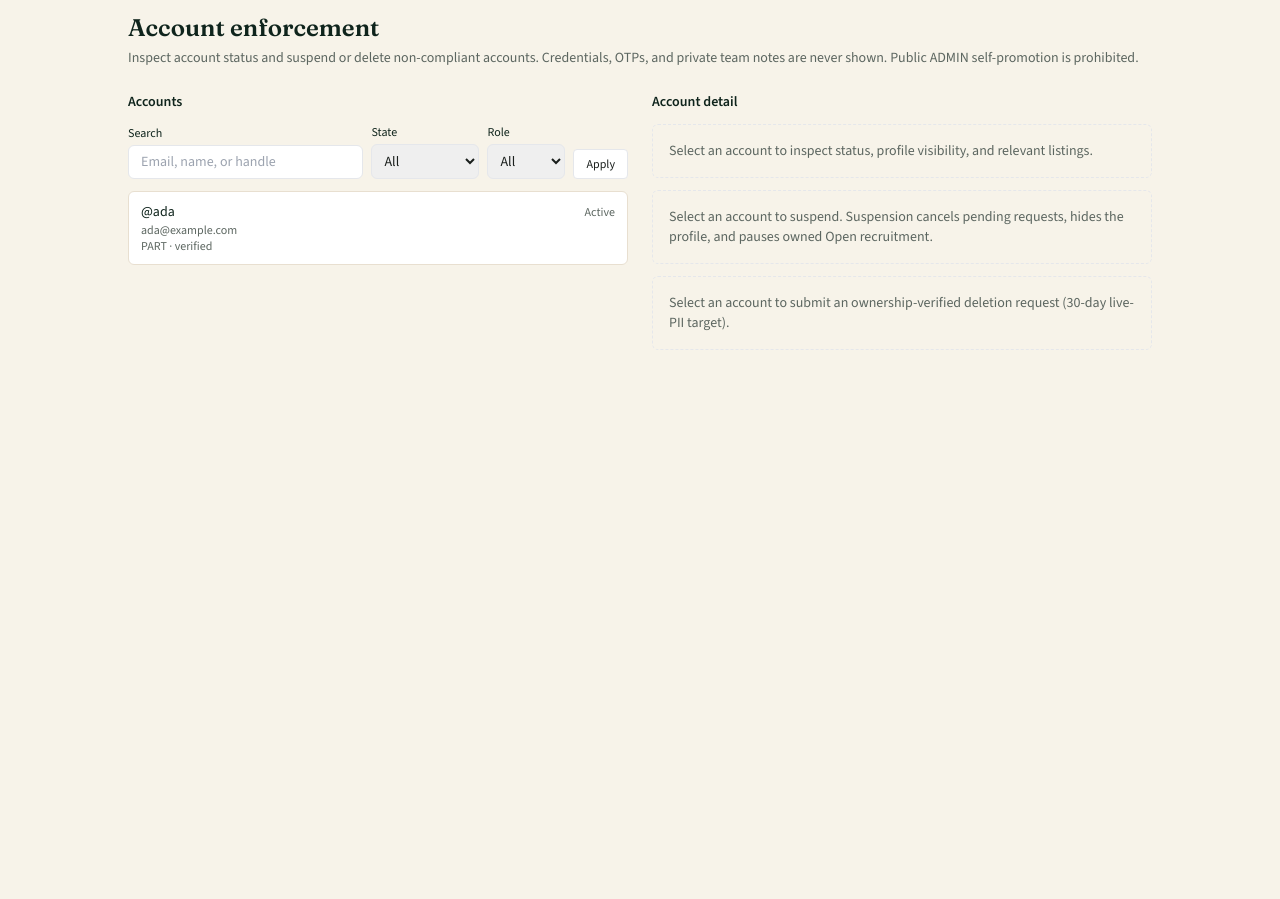
Test: AccountEnforcementPage (US-027 / #255) › suspends account and shows cascade success outcomes
Click the button "@ada Active ada@example.com PART · verified".
click(158, 212)  # box [129,192,627,264]
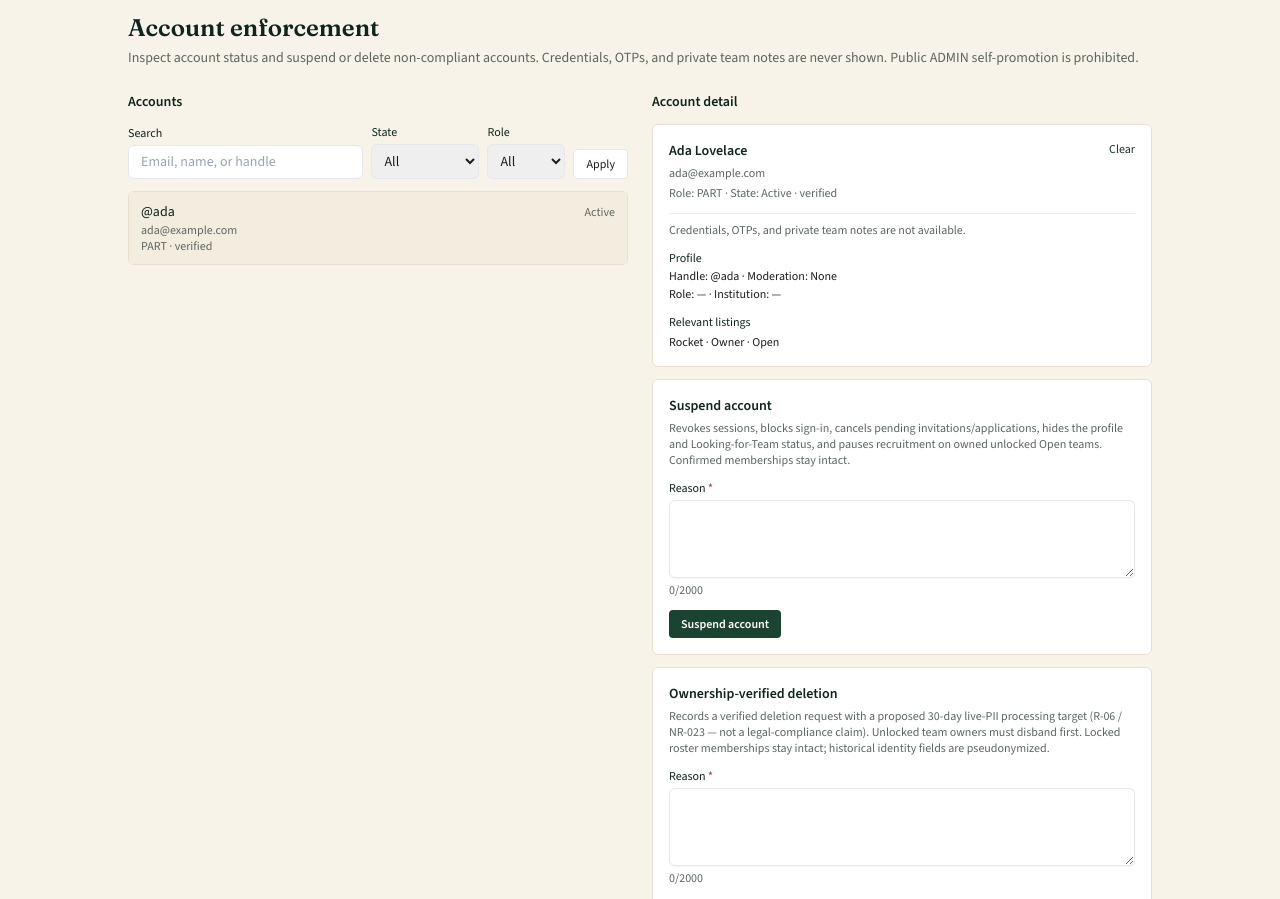
expect the form with test id "suspend-account-form" is shown: met, box [652,379,1152,655]
Type "Harassment" into the text box with test id "suspend-reason".
click(902, 539); type("Harassment")  # box [669,500,1135,578]
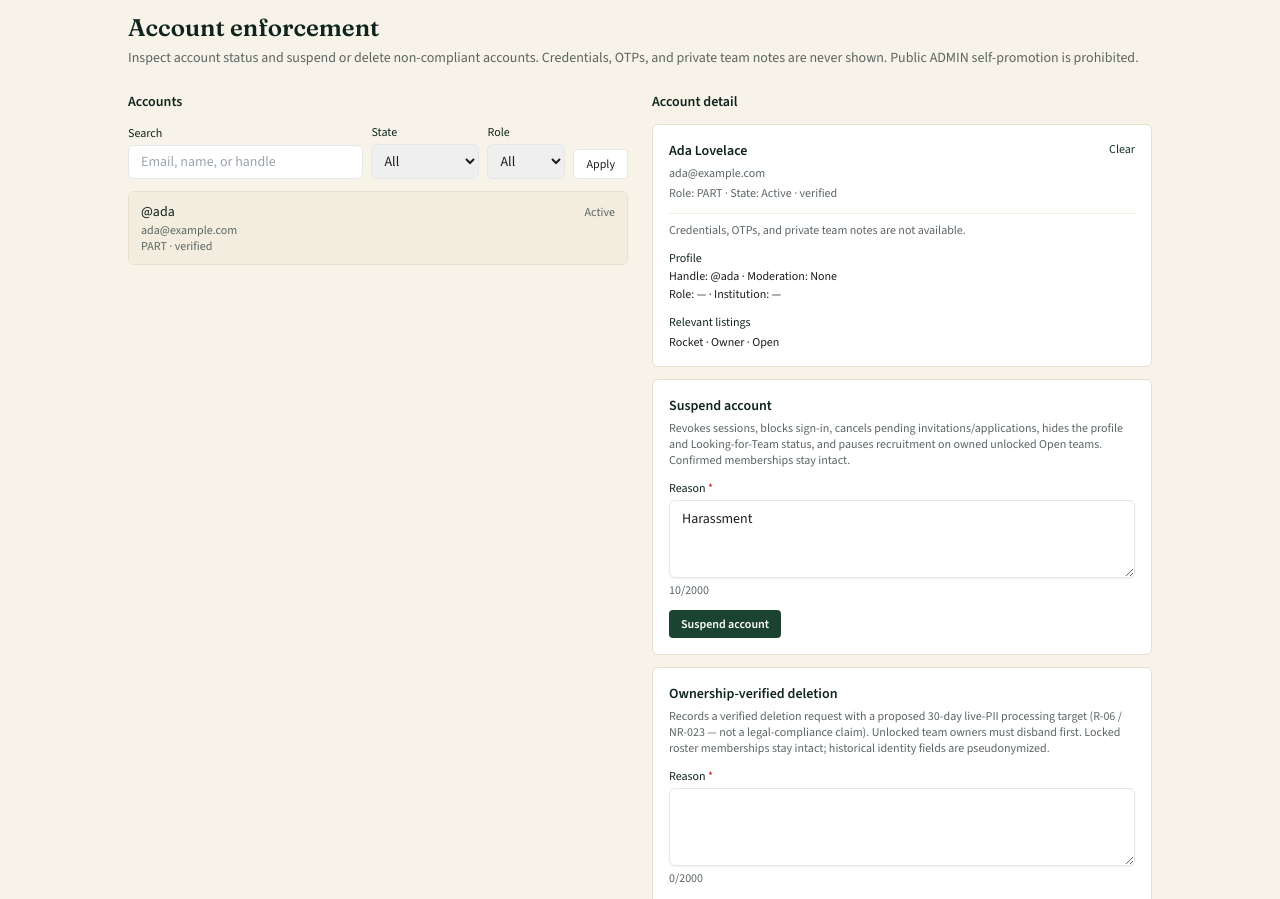
Click the button with test id "suspend-submit".
click(725, 624)  # box [669,610,781,638]
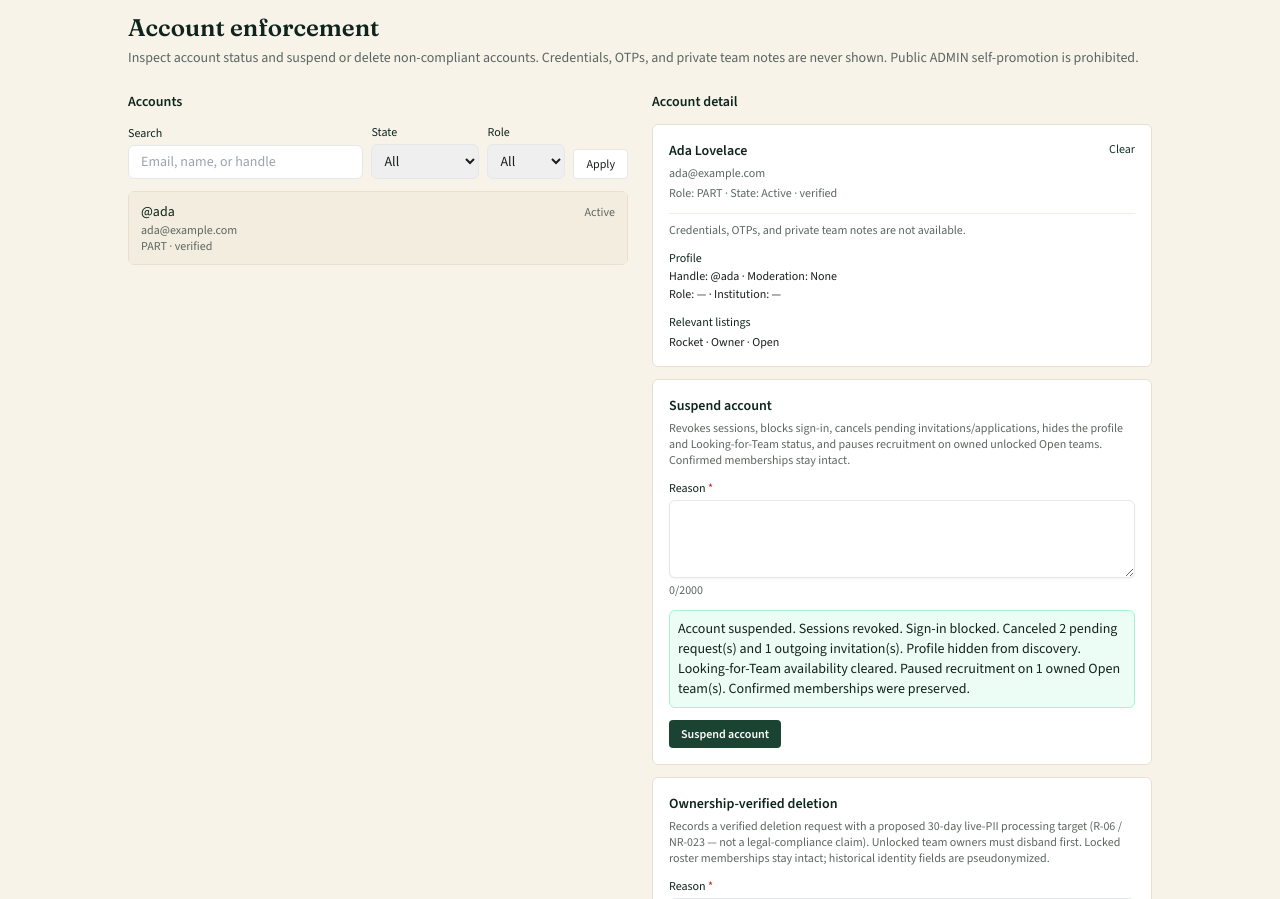
expect the message with test id "suspend-success" shows "Account suspended": met, box [678,619,1120,698]
expect the message with test id "suspend-success" shows "Canceled 2 pending": met, box [678,619,1120,698]
expect the message with test id "suspend-success" shows "Profile hidden": met, box [678,619,1120,698]
